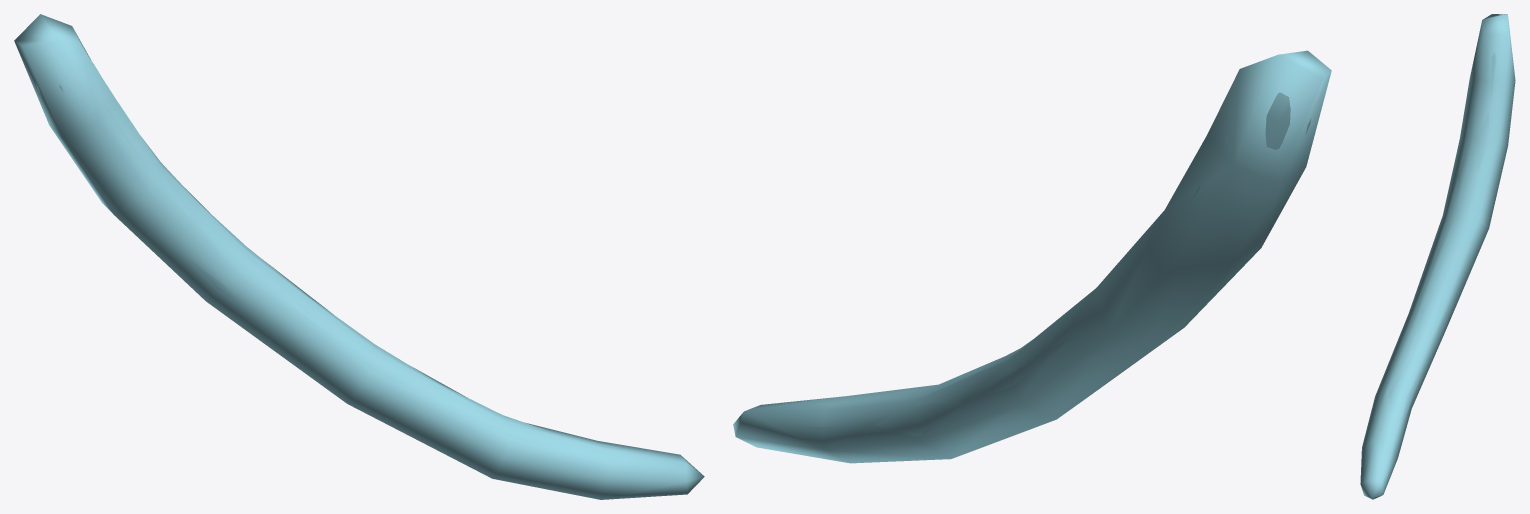
The picture shows the model from 3 angles, left to right: view 1: azimuth 30°, elevation 25°; view 2: azimuth 150°, elevation 25°; view 3: azimuth 270°, elevation 25°; orthographic projection. The views are drawn at different scales.
Parts seen in each view (by area): view 1: CC R2 low, CC R2; view 2: CC R2 low, CC R2; view 3: CC R2 low, CC R2.
Boxes of the visible parts, bbox=[...] form: CC R2 low: bbox=[14, 14, 704, 499]; CC R2: bbox=[33, 34, 647, 467]; CC R2 low: bbox=[733, 50, 1331, 463]; CC R2: bbox=[792, 62, 1311, 449]; CC R2 low: bbox=[1360, 14, 1515, 499]; CC R2: bbox=[1366, 16, 1506, 462].
Size of the model in its own units: 1.47 by 1.27 by 0.5475.
